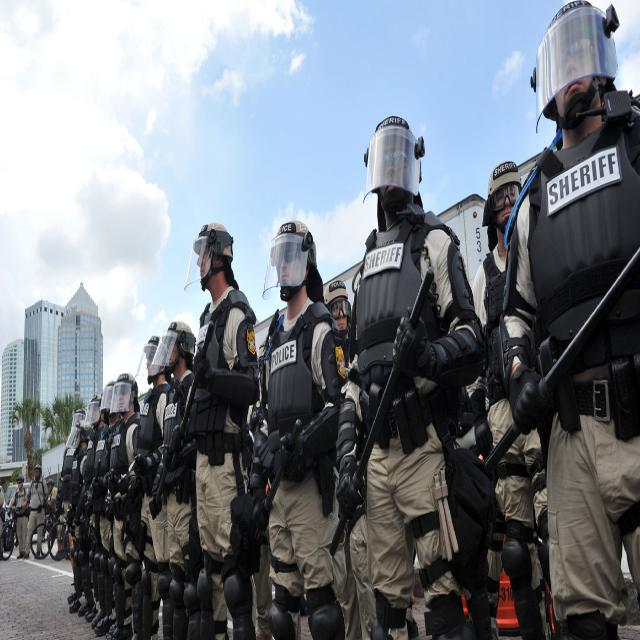police: (341, 95, 482, 640), (527, 0, 640, 640), (466, 127, 558, 640), (259, 200, 336, 640), (185, 210, 258, 640), (55, 360, 136, 640), (133, 317, 196, 640), (0, 450, 44, 587)
